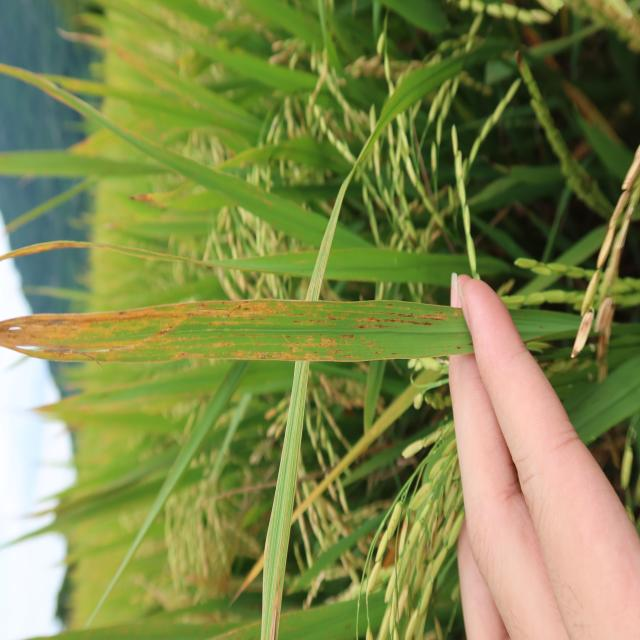Dom soc vi khuan: (0, 299, 461, 362)
